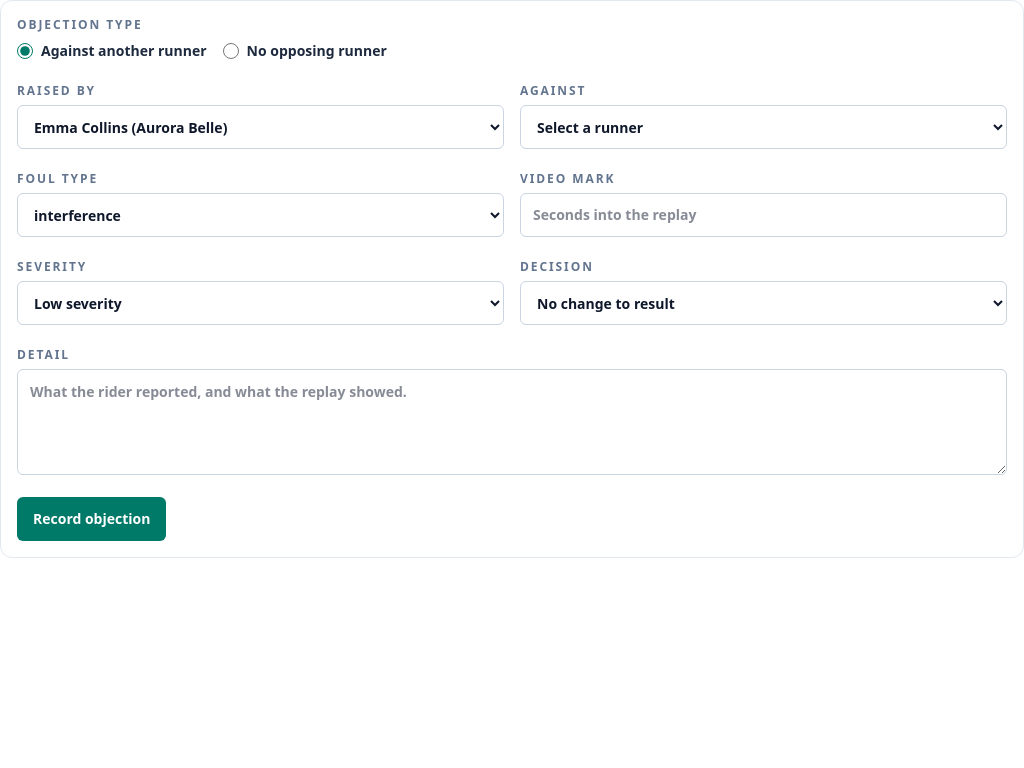
Test: ObjectionForm › requires an accused runner for an interference objection
Type "crowded at the turn" into the text box labelled "Detail" at (512, 422), box [17, 369, 1007, 475]
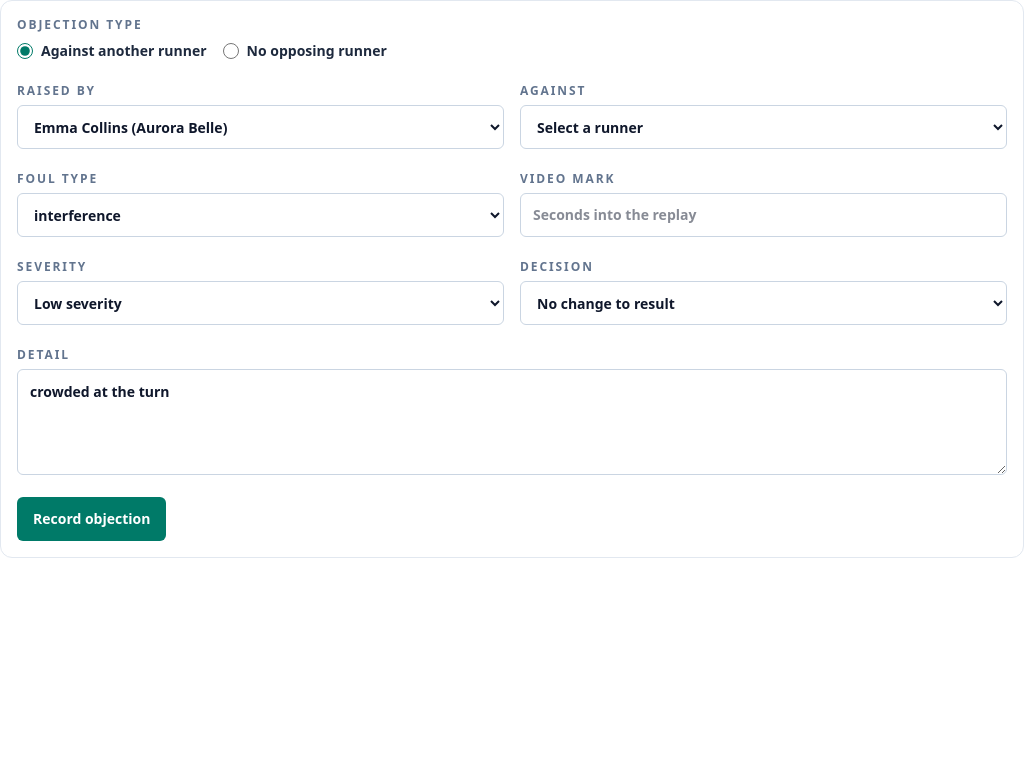
Click the button "Record objection" at (92, 519), box [17, 497, 166, 541]
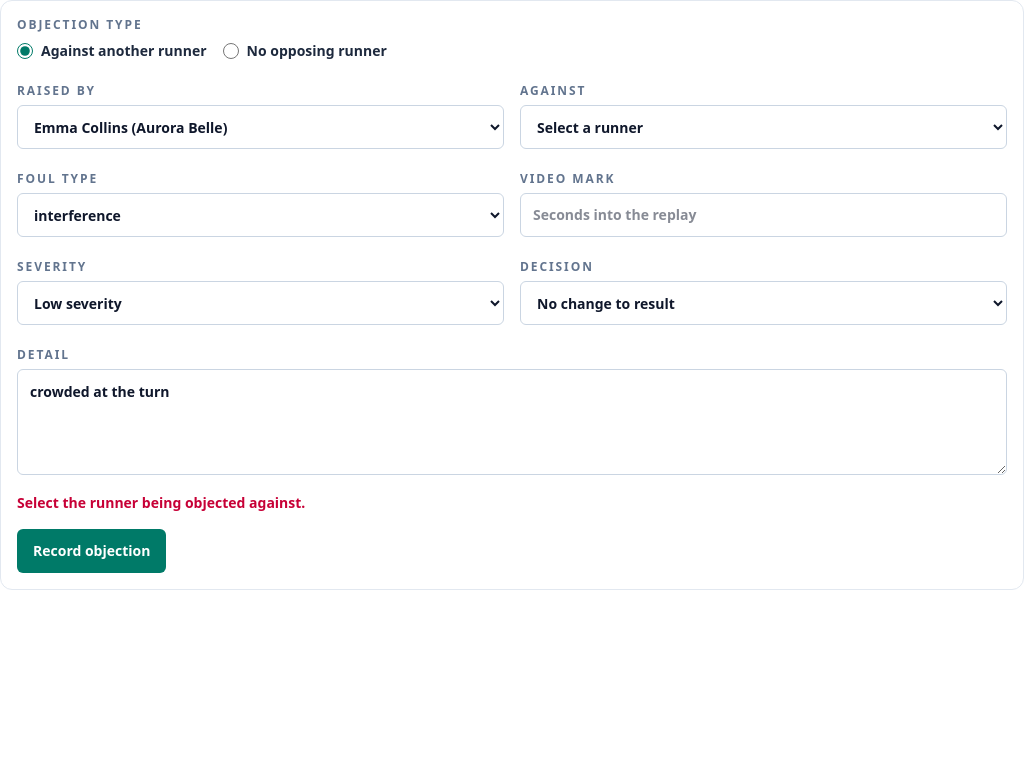
Expected: the message reads "Select the runner being objected against.", [17, 493, 305, 512]
